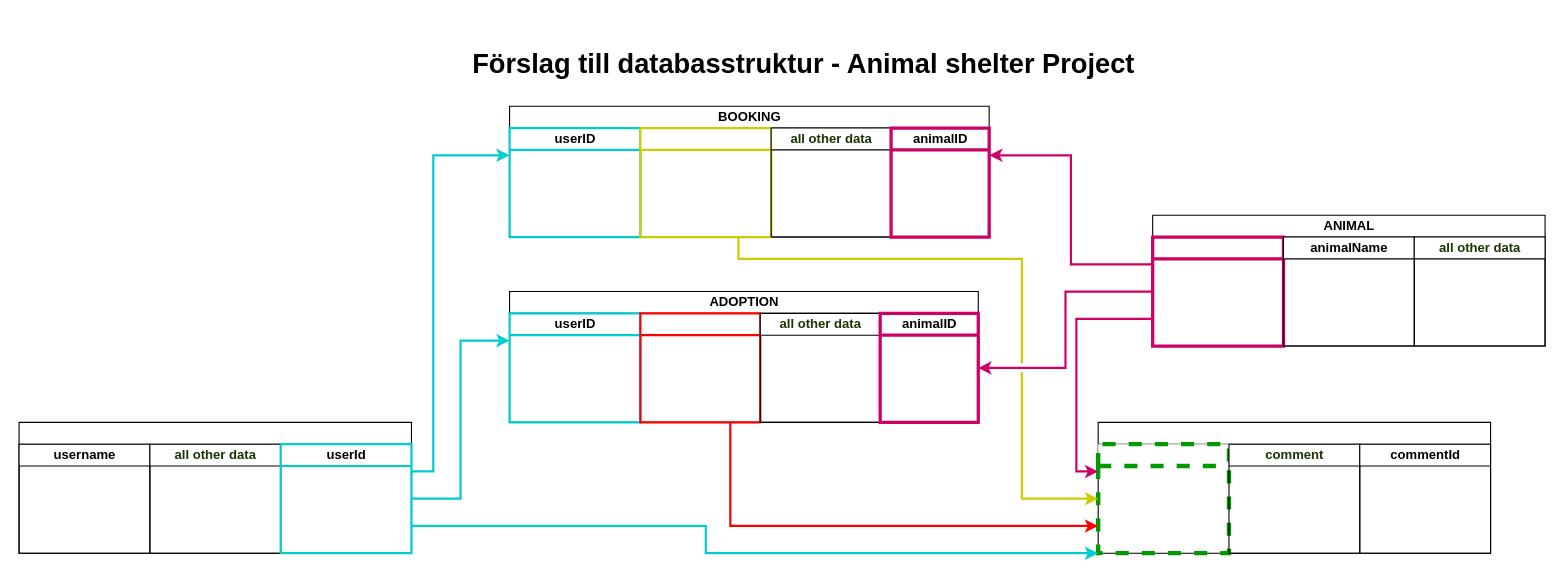
This 1564x581 diagram has some shape labels left out. Each missing label, with the box of its shape:
adoptionID: (639, 312, 761, 423)
animald: (1150, 235, 1285, 347)
bookingId: (639, 126, 772, 238)
COMMENTS: (1097, 421, 1491, 553)
HUMAN: (18, 421, 411, 553)
objectId: (1095, 441, 1231, 555)
